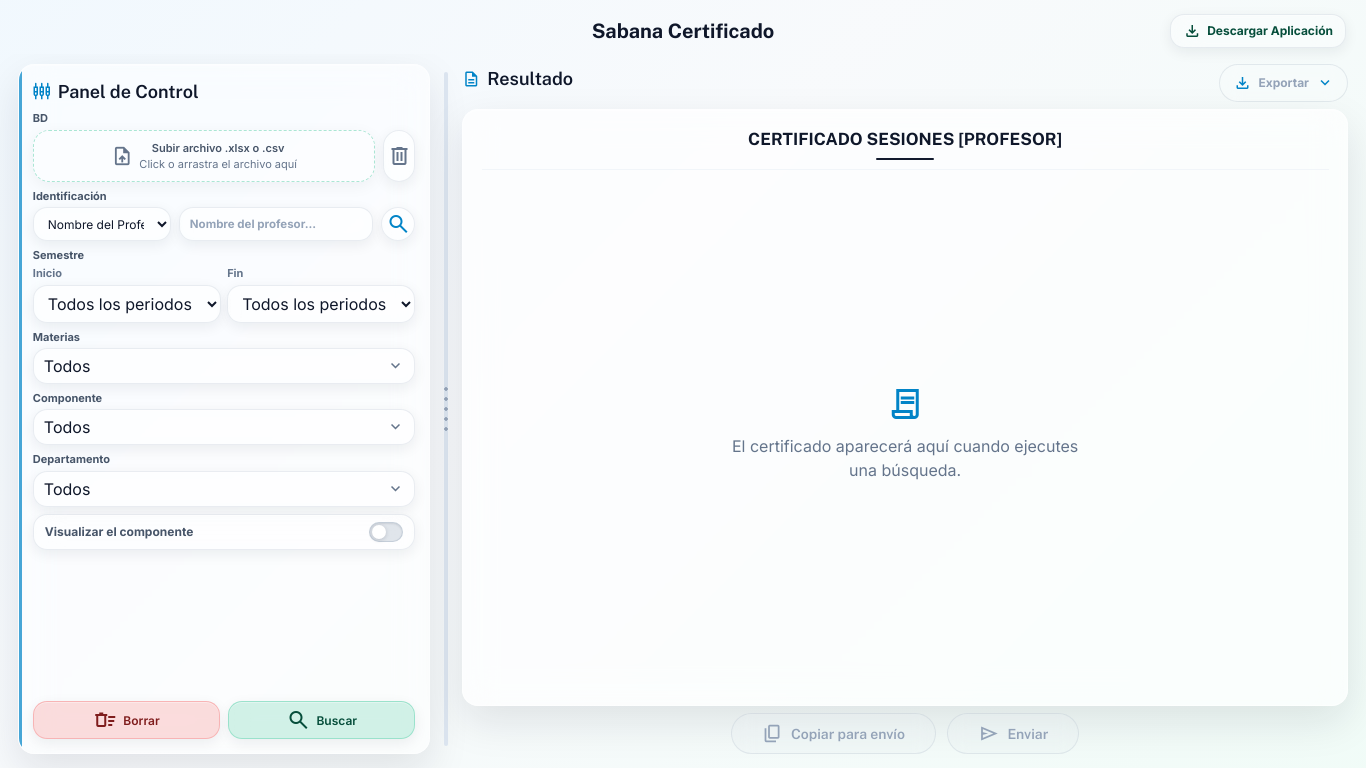
Scenario: Sabana Certificado frontend › changes the identification placeholder based on the selected type
The image size is (1366, 768).
expect the field with placeholder "Nombre del profesor..." is shown: met, box [179,207,374,241]
Select "Número de documento" in the dropdown named "Tipo de identificación" at (102, 224), box [33,207,171,241]
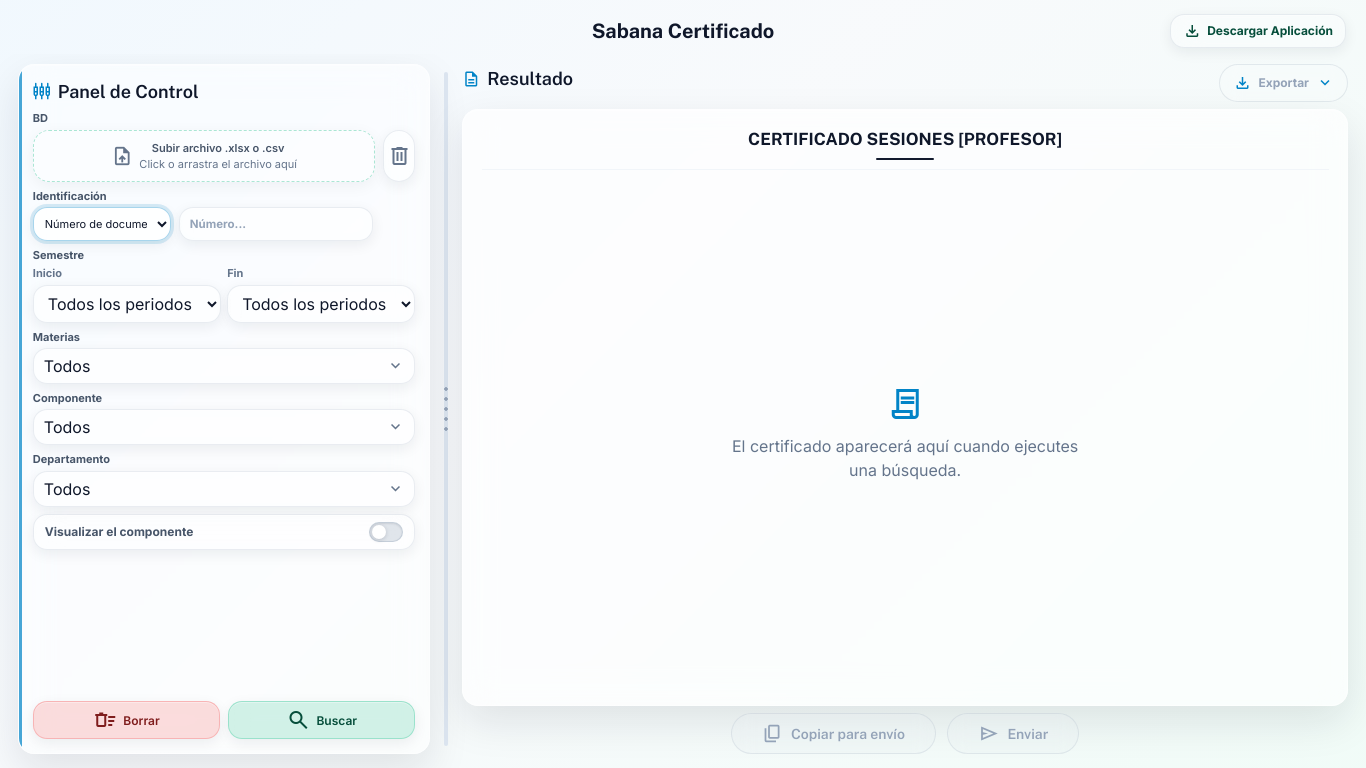
expect the field with placeholder "Número..." is shown: met, box [179,207,374,241]
